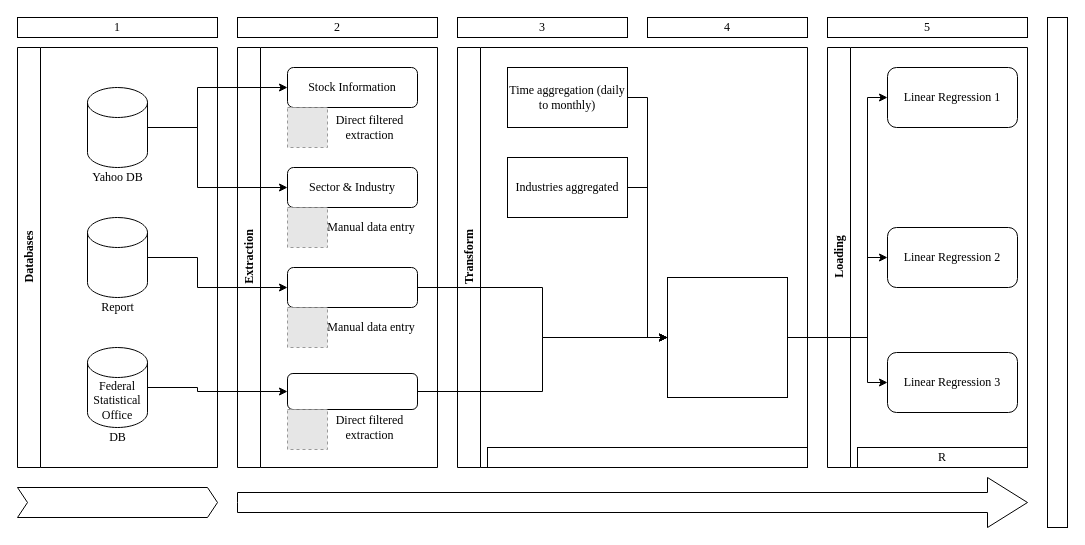
Image size: 1085x545. Some labels were removed from this diagram. Grey dashed boxes stand in for pictures. Each missing label, with the centre of its shape:
Consumer Price Index: the point at 352,391
ETL Pipeline: the point at 632,502
Kantar BrandZ: the point at 117,257
Merged Data: the point at 727,337
Python: the point at 647,457
Sources: the point at 117,502
Top Brands 2019: the point at 352,287
Yahoo Finance: the point at 117,127
